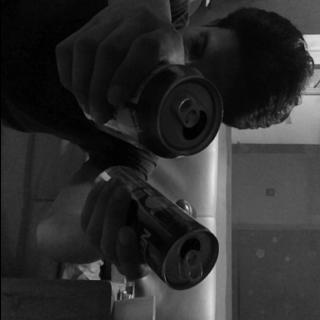alumunium_can: (89, 162, 219, 292), (83, 64, 219, 158)
